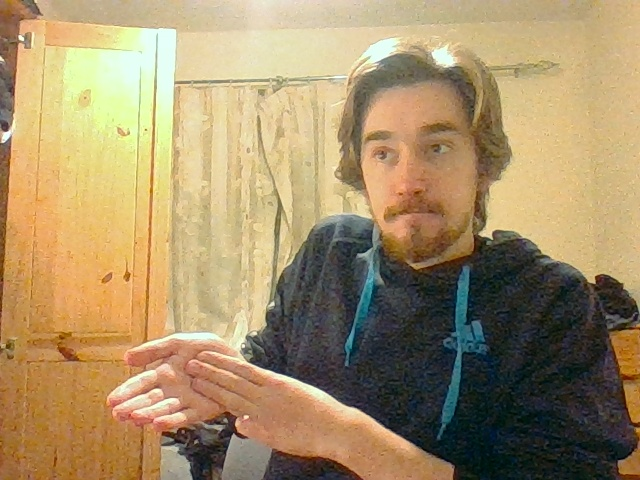mother: (106, 332, 269, 430)
